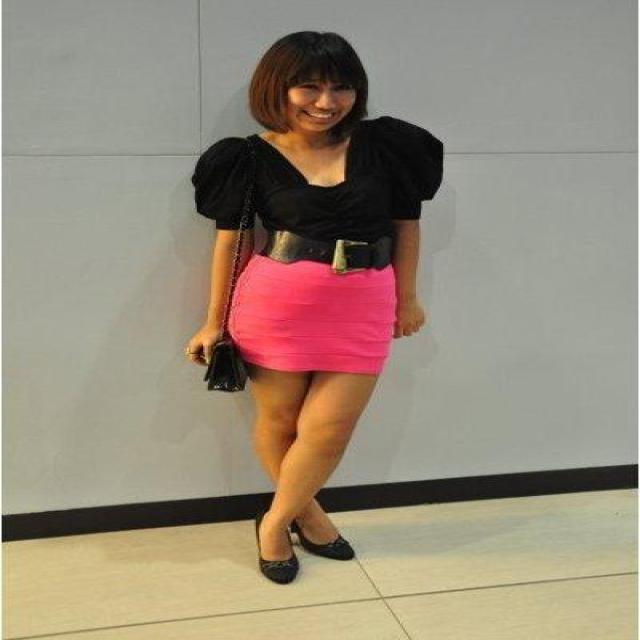bag: (190, 323, 256, 392)
shirt: (192, 116, 442, 242)
shoe: (254, 525, 354, 583)
skirt: (229, 254, 395, 380)
